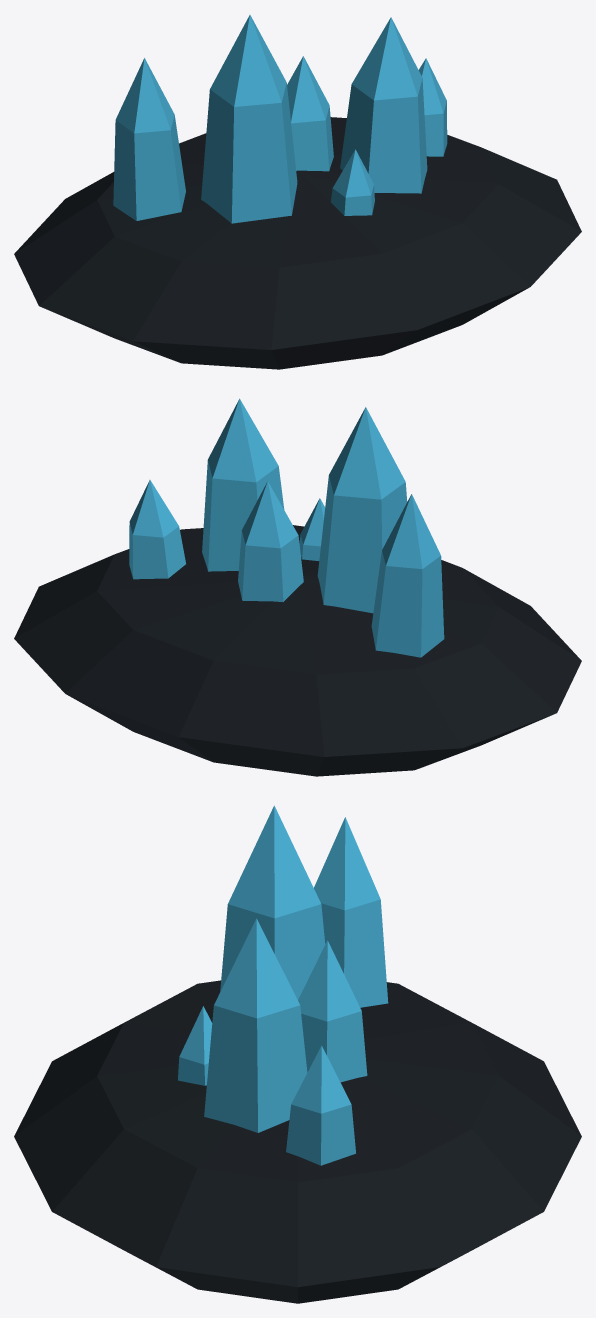
File: patch_silicate_a.obj
3 views of the same model, one above another, from view 1: azimuth 30°, elevation 25°; view 2: azimuth 150°, elevation 25°; view 3: azimuth 270°, elevation 25° (orthographic). The views are drawn at different scales.
Visible parts, largest first — view 1: host_rock, facet_1, facet_3, facet_0, facet_2, facet_5, facet_4; view 2: host_rock, facet_1, facet_0, facet_3, facet_2, facet_4, facet_5; view 3: host_rock, facet_3, facet_1, facet_0, facet_2, facet_4, facet_5.
Part boxes in pixels (<box>): host_rock: <box>14,117,581,369</box>; facet_1: <box>201,15,297,223</box>; facet_3: <box>340,17,427,193</box>; facet_0: <box>113,58,185,220</box>; facet_2: <box>287,56,333,171</box>; facet_5: <box>331,149,374,215</box>; facet_4: <box>418,58,447,156</box>; host_rock: <box>14,525,581,776</box>; facet_1: <box>317,407,407,613</box>; facet_0: <box>371,494,444,657</box>; facet_3: <box>202,398,284,571</box>; facet_2: <box>238,481,303,601</box>; facet_4: <box>129,480,185,579</box>; facet_5: <box>299,498,325,560</box>; host_rock: <box>14,980,581,1303</box>; facet_3: <box>204,918,307,1132</box>; facet_1: <box>220,805,325,999</box>; facet_0: <box>314,817,388,1007</box>; facet_2: <box>298,940,367,1082</box>; facet_4: <box>286,1045,355,1165</box>; facet_5: <box>178,1006,212,1085</box>.
Size of the model in its own units: 6.4 by 3.8 by 5.1.
